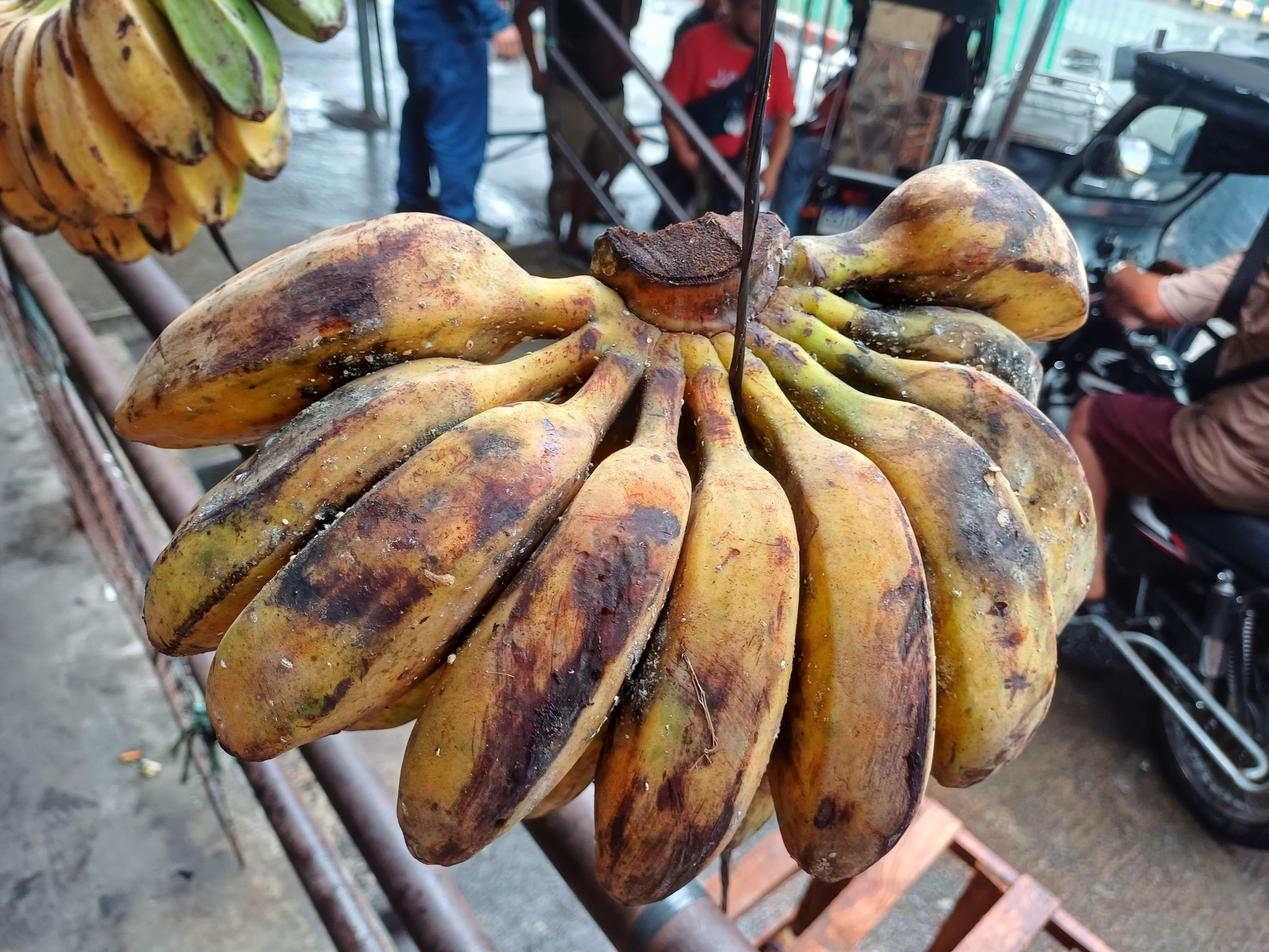ripe: (114, 157, 1099, 906), (0, 0, 348, 265)
